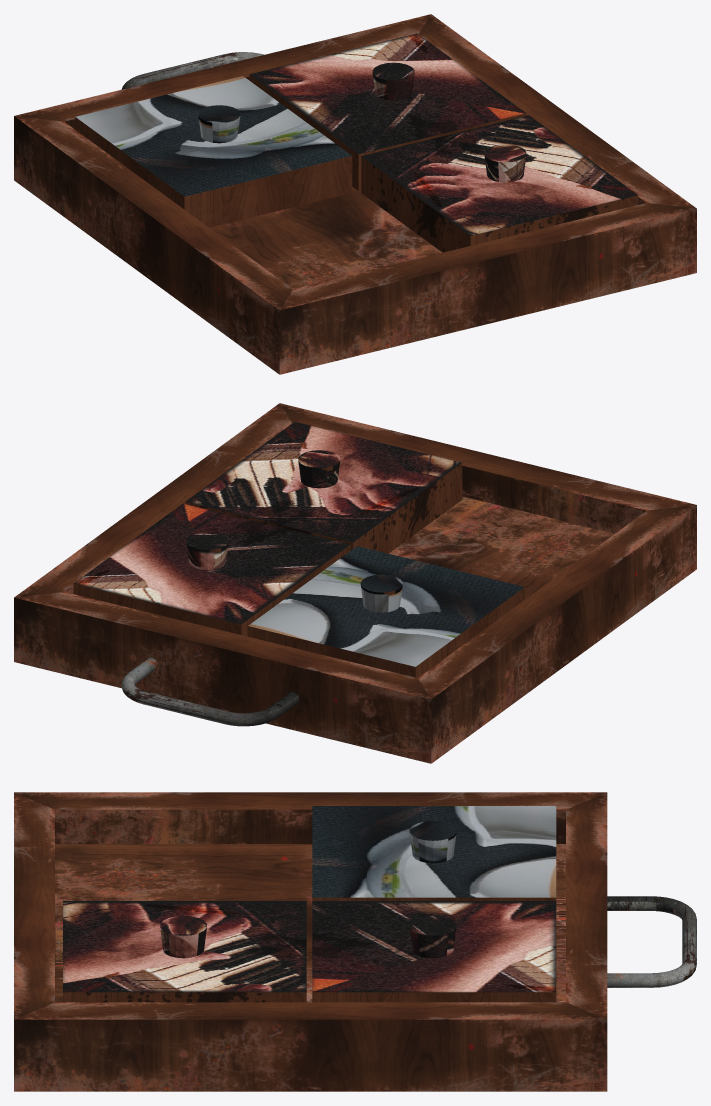
The model's file is PuzzleBoard2x2.FBX.
3 views of the same model, one above another, from view 1: azimuth 30°, elevation 25°; view 2: azimuth 150°, elevation 25°; view 3: azimuth 270°, elevation 25° (orthographic). The views are drawn at different scales.
Parts seen in each view (by area): view 1: Object002; view 2: Object002; view 3: Object002.
Boxes of the visible parts, x1,y1,x2,y2 form: Object002: (14, 14, 696, 374); Object002: (14, 403, 696, 763); Object002: (14, 792, 696, 1091).
Bounding box in the file's own units: 142 × 30.05 × 181.
